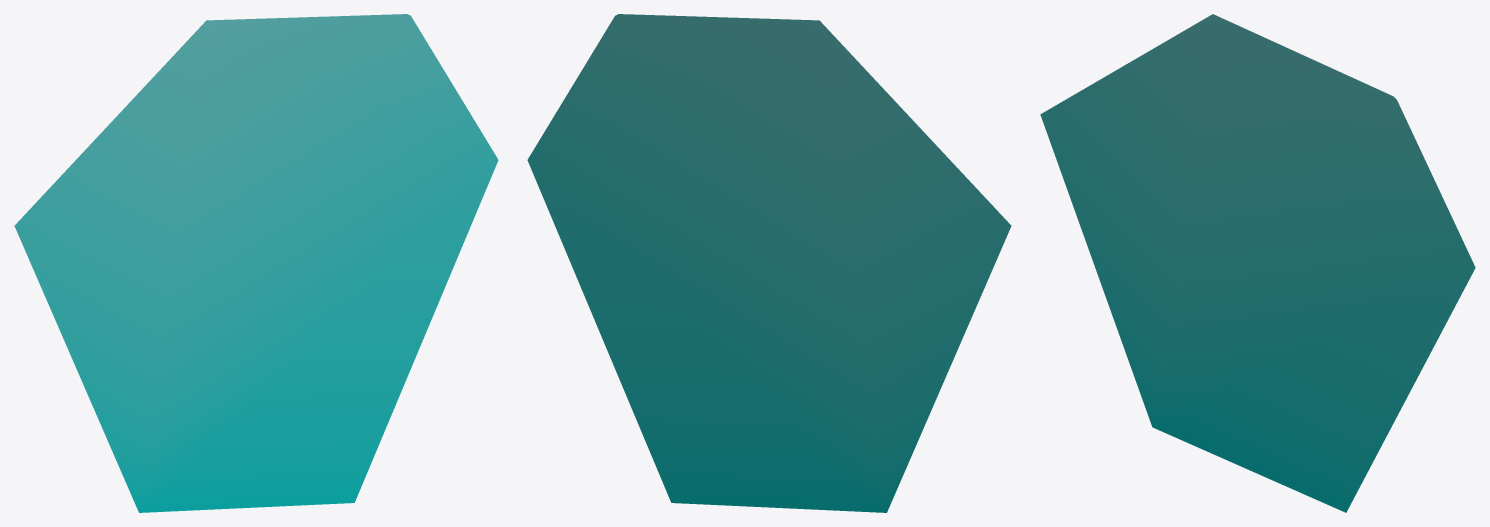
The model's file is Purple_Shamrock_rjrrH_Mid_rjrrH_VarA_LOD3.fbx.
3 views of the same model, side by side, from view 1: azimuth 30°, elevation 25°; view 2: azimuth 150°, elevation 25°; view 3: azimuth 330°, elevation 25° (orthographic). The views are drawn at different scales.
Parts seen in each view (by area): view 1: _59e6_VarA_LOD4; view 2: _59e6_VarA_LOD4; view 3: _59e6_VarA_LOD4.
Boxes of the visible parts, box(x1,y1,x2,y2) form: _59e6_VarA_LOD4: box(14, 14, 498, 512); _59e6_VarA_LOD4: box(527, 14, 1011, 512); _59e6_VarA_LOD4: box(1040, 14, 1475, 512).
Bounding box in the file's own units: 41.15 × 42.12 × 0.
